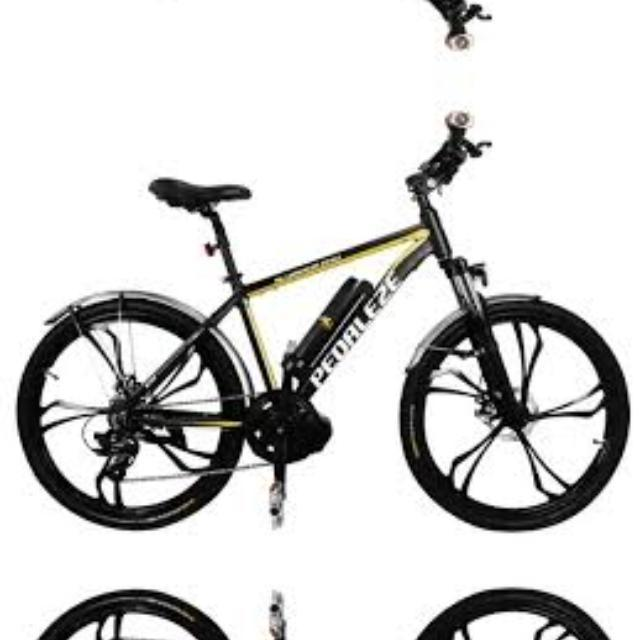obstacle: (13, 106, 632, 534), (13, 585, 632, 640), (13, 0, 632, 54)
